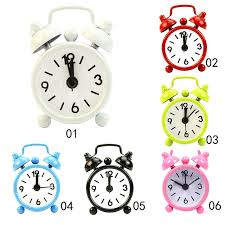alarm_clock: (12, 3, 205, 212)
